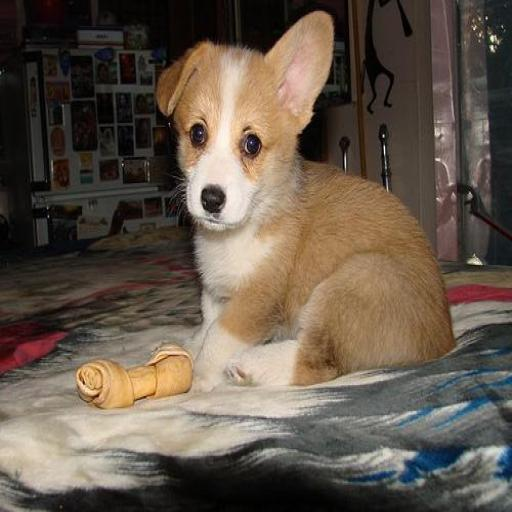dog_face: (159, 18, 337, 220)
